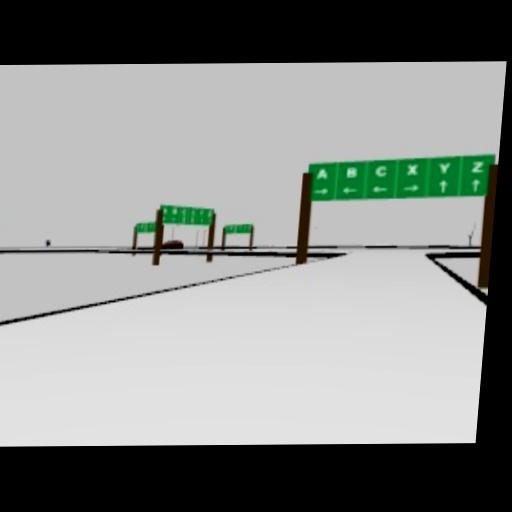A: (315, 166, 330, 181)
B: (345, 166, 359, 180)
C: (373, 164, 389, 178)
Left: (341, 185, 360, 195), (371, 184, 390, 194)
Right: (312, 186, 331, 197), (401, 184, 421, 194)
Straight: (437, 179, 450, 194), (469, 179, 482, 194)
X: (404, 163, 419, 176)
Y: (438, 161, 452, 176)
Z: (469, 159, 485, 175), (177, 208, 185, 225), (171, 215, 179, 224)
